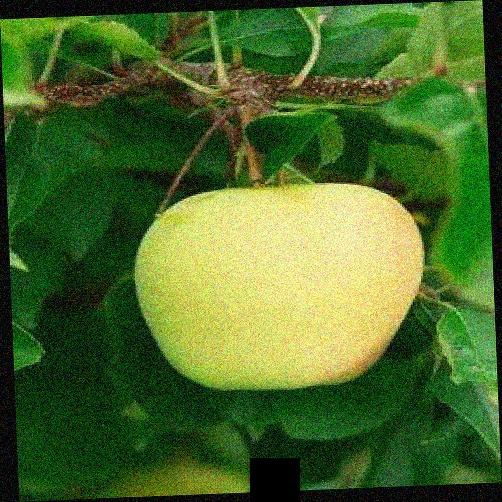green apple: (130, 181, 430, 391)
